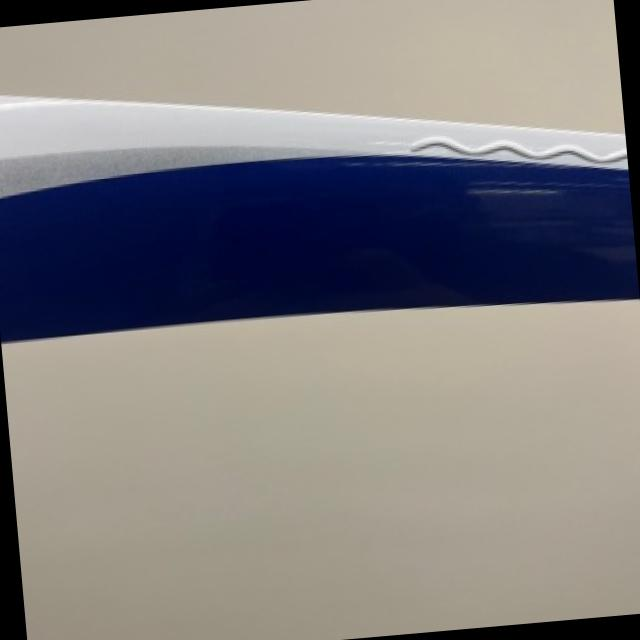healthy: (0, 94, 640, 640), (0, 94, 637, 339)
